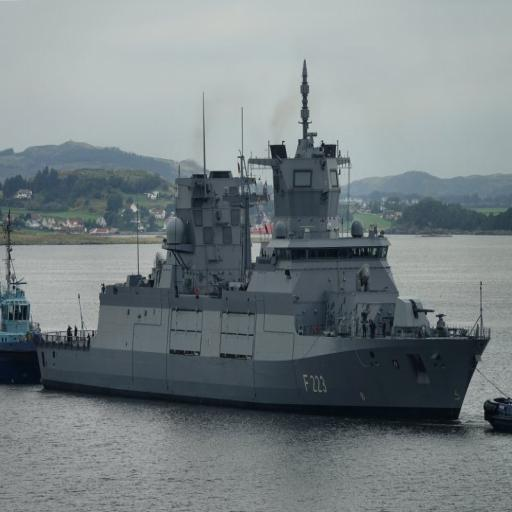Fragata: (32, 54, 497, 434)
